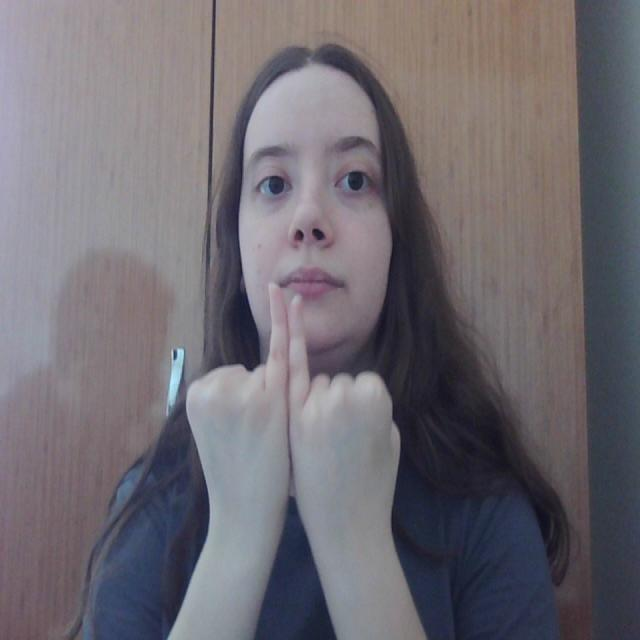Kardes: (182, 276, 403, 560)
